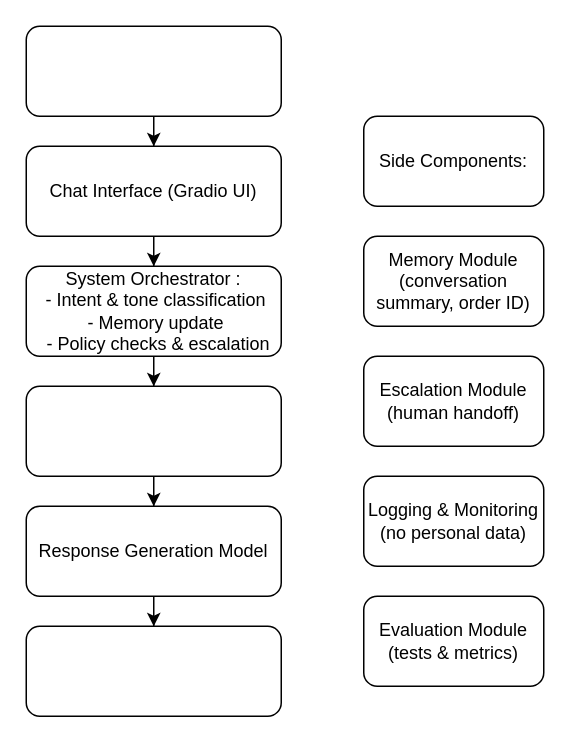
Some shapes in this 570 by 743 pixel diagram are drawn without their labels. Each missing label, with the box of its shape:
Final Response to User: (25, 625, 281, 716)
Retrieval Layer (RAG) - FAQs - Store policies: (25, 385, 281, 476)
USER: (25, 25, 281, 116)
